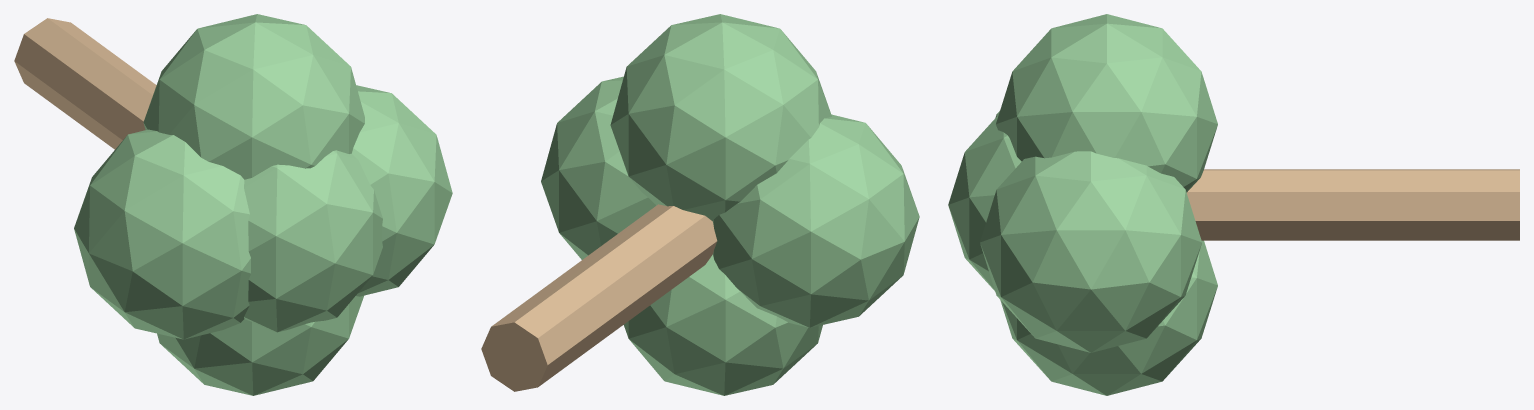
The model's file is tree_city.glb.
3 renders of one model, left to right at view 1: azimuth 30°, elevation 25°; view 2: azimuth 150°, elevation 25°; view 3: azimuth 270°, elevation 25°, orthographic.
Visible parts, largest first — view 1: leaf_3, leaf_4, leaf_1, leaf_2, trunk_0, leaf_5; view 2: leaf_4, leaf_3, trunk_0, leaf_5, leaf_2; view 3: leaf_2, leaf_4, trunk_0, leaf_5, leaf_1.
Part boxes in pixels (box(x1,y1,x2,y2)): leaf_3: box(74, 129, 250, 339); leaf_4: box(143, 14, 364, 179); leaf_1: box(244, 150, 382, 332); leaf_2: box(352, 85, 452, 296); trunk_0: box(14, 18, 156, 149); leaf_5: box(157, 295, 363, 395); leaf_4: box(610, 14, 831, 221); leaf_3: box(713, 114, 919, 327); trunk_0: box(481, 204, 717, 391); leaf_5: box(624, 254, 822, 395); leaf_2: box(541, 76, 656, 259); leaf_2: box(980, 151, 1201, 352); leaf_4: box(996, 14, 1217, 192); trunk_0: box(1187, 169, 1519, 240); leaf_5: box(1000, 240, 1217, 395); leaf_1: box(948, 114, 1021, 290).
Size of the model in its own units: 1.26 by 1.26 by 1.8.
